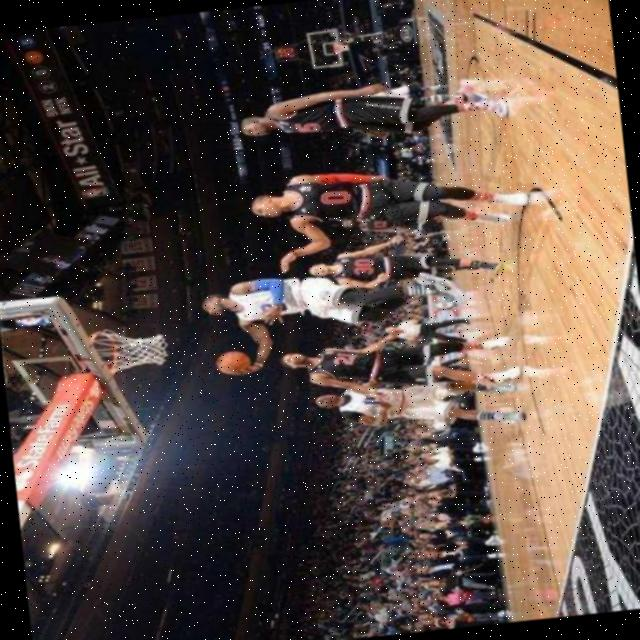ball: (214, 349, 250, 375)
